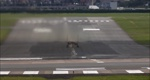maybay_muctieu: (60, 33, 83, 49)
